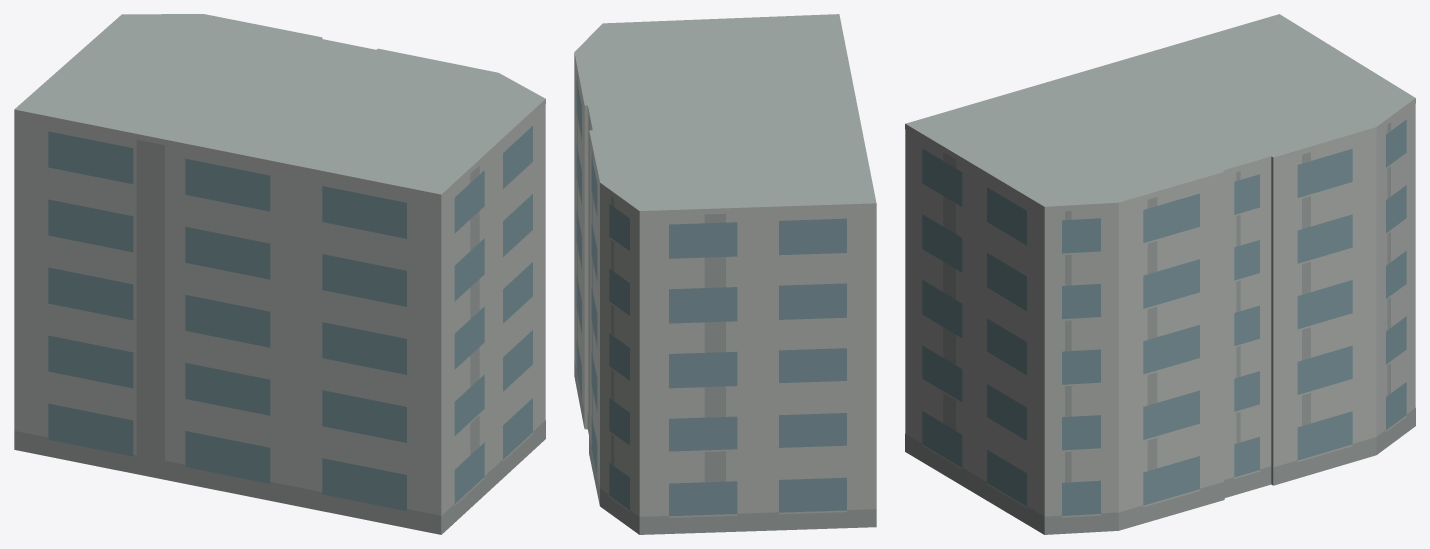
Rendered from survey-upis-32810372.glb.
3 views of the same model, side by side, from view 1: azimuth 30°, elevation 25°; view 2: azimuth 150°, elevation 25°; view 3: azimuth 270°, elevation 25° (orthographic). The views are drawn at different scales.
Visible parts, largest first — view 1: survey-upis-32810372.tmp; view 2: survey-upis-32810372.tmp; view 3: survey-upis-32810372.tmp.
Part boxes in pixels (x1,y1,x2,y2): survey-upis-32810372.tmp: (14,14,545,534); survey-upis-32810372.tmp: (574,14,876,534); survey-upis-32810372.tmp: (905,14,1415,534).
Bounding box in the file's own units: 18.15 × 14.4 × 20.31.
